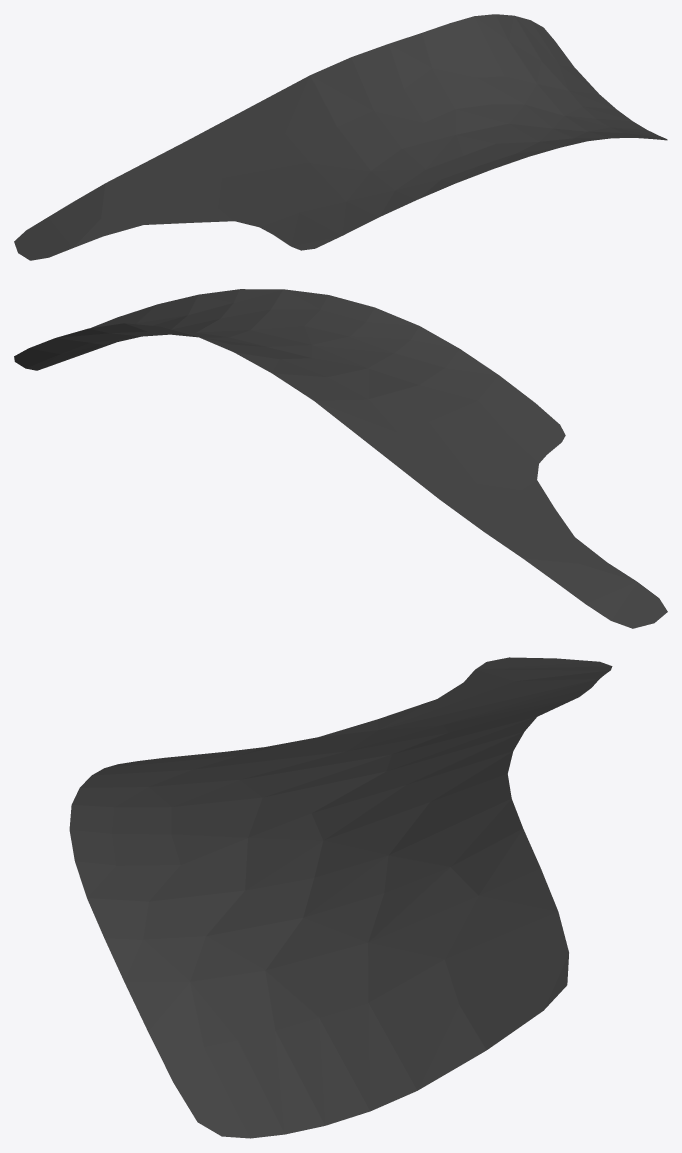
The model's file is Ulna_notch_radial.glb.
The picture shows the model from 3 angles, top to bottom: view 1: azimuth 30°, elevation 25°; view 2: azimuth 150°, elevation 25°; view 3: azimuth 270°, elevation 25°; orthographic projection. The views are drawn at different scales.
Visible parts, largest first — view 1: Ulna_notch_radial; view 2: Ulna_notch_radial; view 3: Ulna_notch_radial.
Boxes of the visible parts, box(x1,y1,x2,y2) form: Ulna_notch_radial: box(14, 14, 667, 260); Ulna_notch_radial: box(14, 289, 667, 628); Ulna_notch_radial: box(69, 657, 612, 1138).
Bounding box in the file's own units: 0.1572 × 0.0359 × 0.0653.
Materials: 1 (1 with a texture image).
